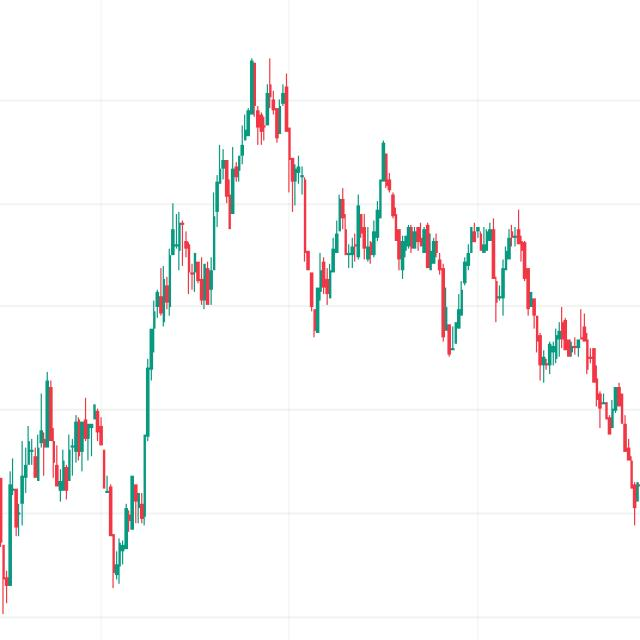Triple-Top: (236, 47, 294, 155)
